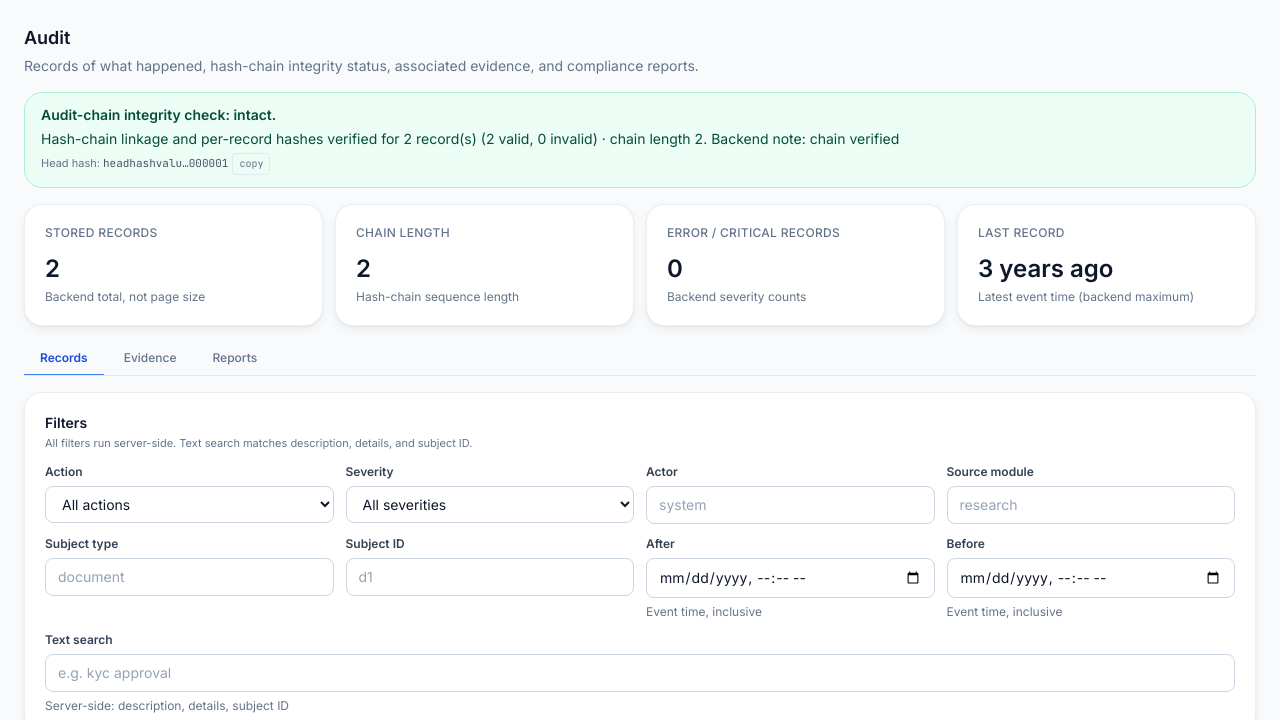
Test: evidence › 34+50. evidence error is retryable
Click the tab "Evidence" at [150, 359], box [108,342,192,376]
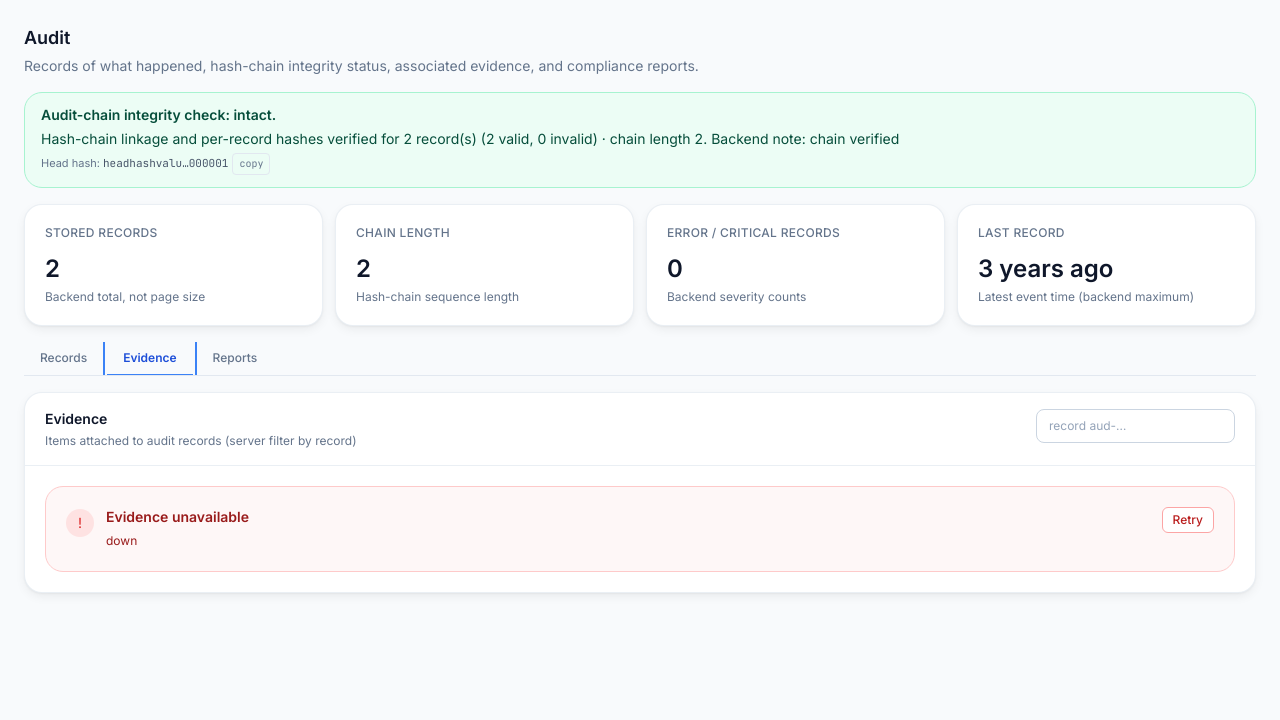
Result: the text "Evidence unavailable" is shown at [106,508,249,525]
